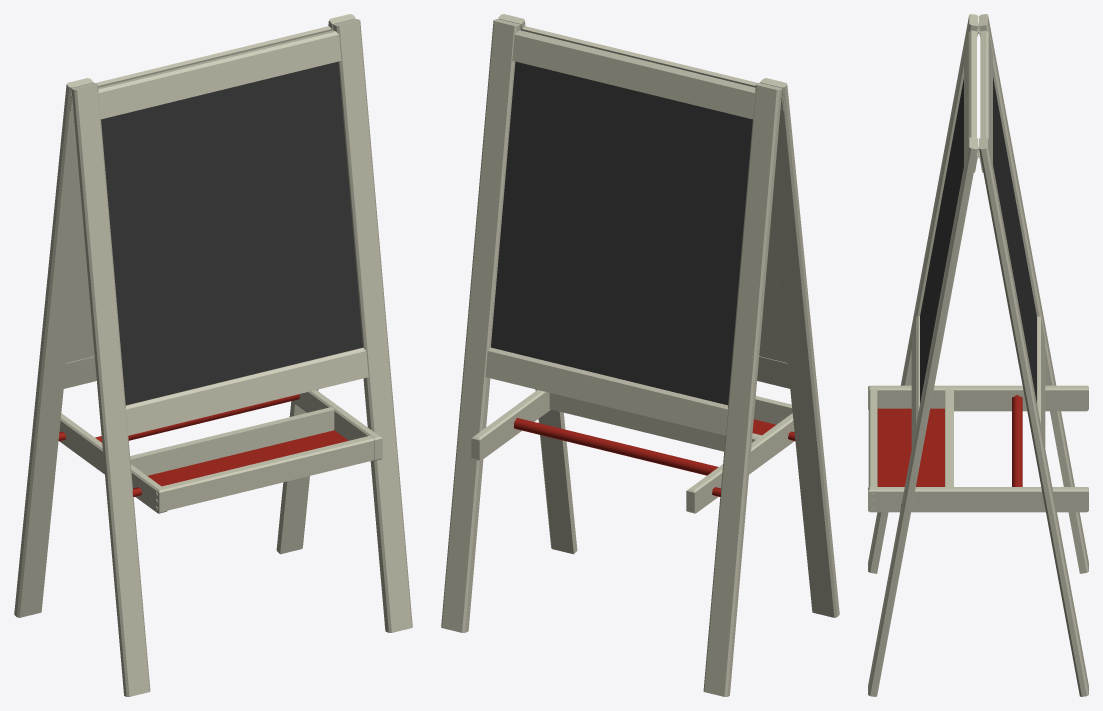
Rendered from MalaEasel.FBX.
3 renders of one model, left to right at view 1: azimuth 30°, elevation 25°; view 2: azimuth 150°, elevation 25°; view 3: azimuth 270°, elevation 25°, orthographic. The views are drawn at different scales.
Visible parts, largest first — view 1: MalaEasel; view 2: MalaEasel; view 3: MalaEasel.
Boxes of the visible parts, left/top/right/bottom form: MalaEasel: left=14, top=14, right=412, bottom=696; MalaEasel: left=441, top=14, right=839, bottom=696; MalaEasel: left=868, top=14, right=1088, bottom=696.
Bounding box in the file's own units: 62 × 43 × 118.
